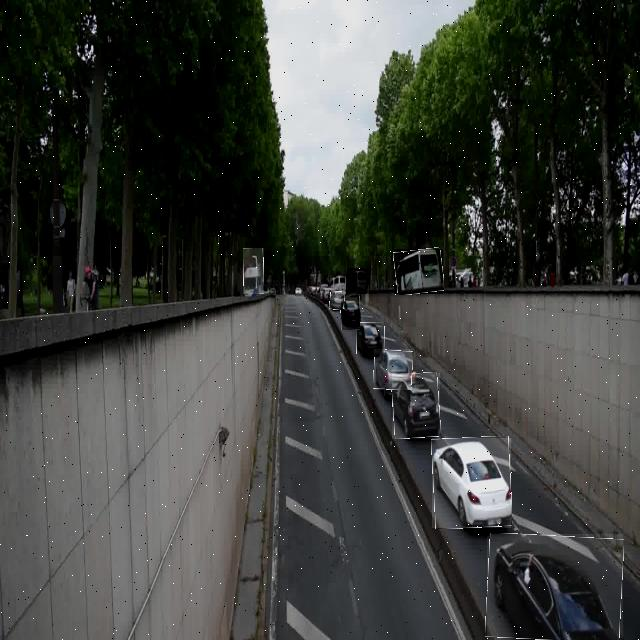Bus: (394, 249, 443, 294), (243, 248, 264, 294), (346, 268, 368, 294)
Car: (487, 534, 623, 640), (432, 438, 511, 528), (392, 373, 440, 439), (374, 349, 412, 390), (357, 322, 385, 357), (341, 296, 360, 330), (329, 291, 345, 310)
